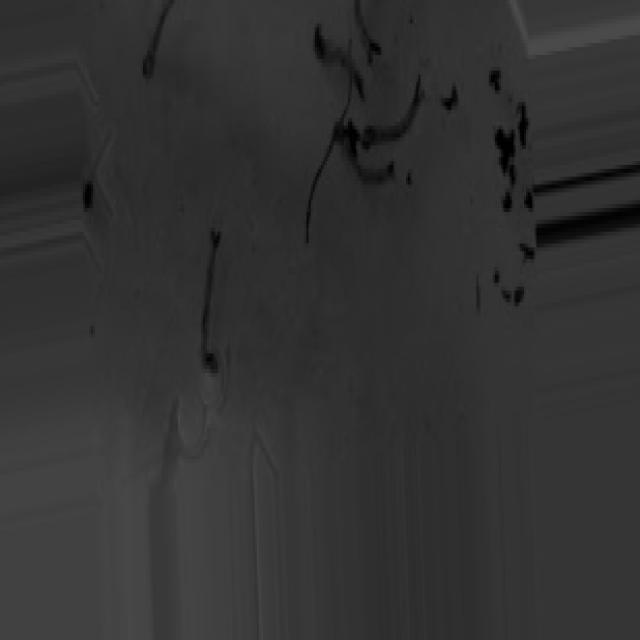larvas: (332, 126, 399, 205), (308, 16, 369, 100), (363, 84, 420, 147), (203, 222, 222, 374), (141, 0, 177, 79), (350, 1, 380, 59)
